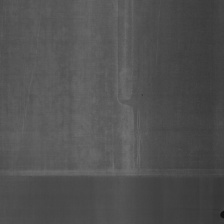punching_hole: (0, 168, 224, 181), (220, 209, 224, 219)
